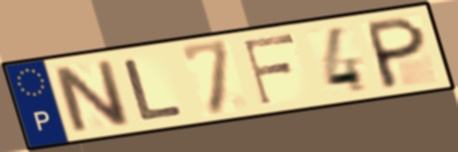4: (317, 25, 373, 96)
7: (178, 37, 236, 119)
F: (240, 31, 298, 108)
L: (122, 56, 187, 123)
N: (48, 57, 135, 136)
P: (366, 13, 428, 91)
